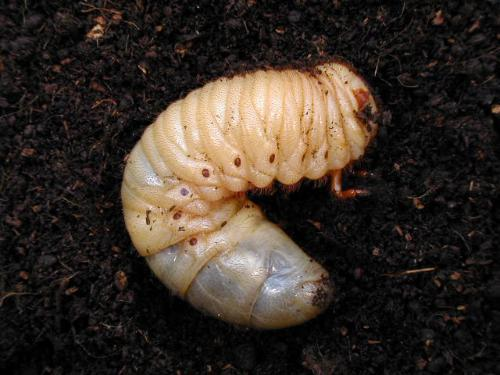grub: (122, 44, 379, 332)
